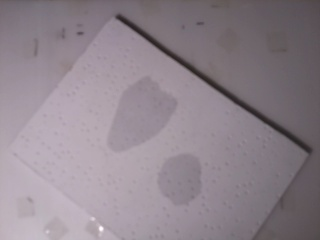Water_detected: (109, 89, 163, 138), (169, 157, 195, 191)
